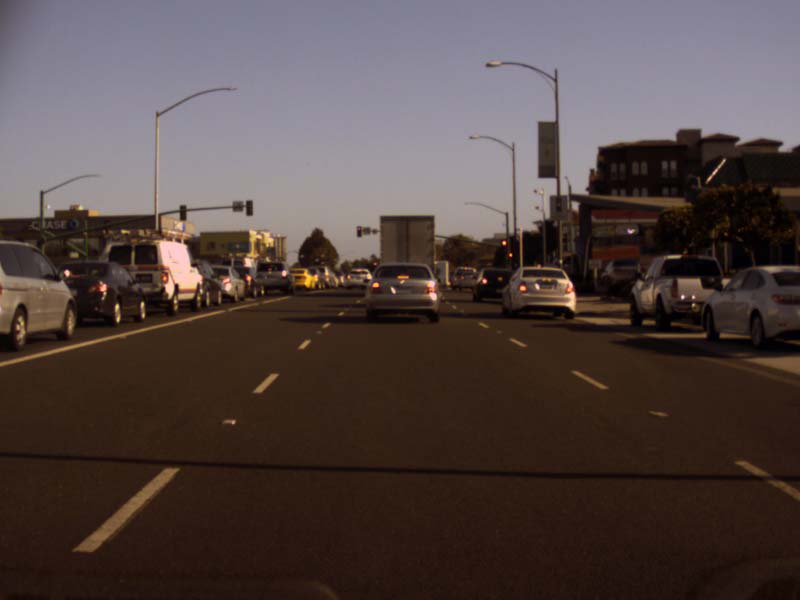Red: (501, 240, 507, 253), (508, 252, 513, 264)
